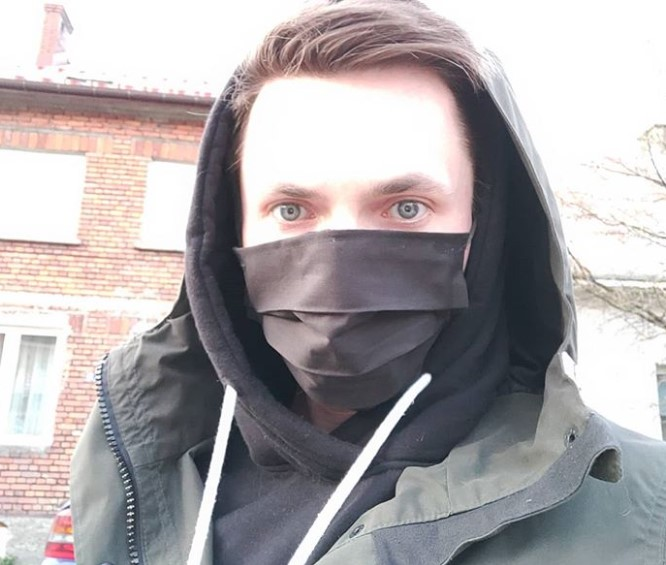face_with_mask: (194, 0, 510, 426)
